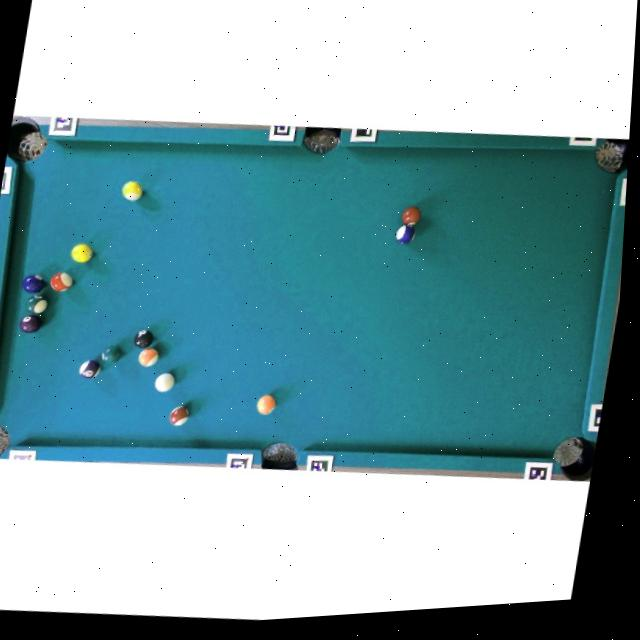cue ball: (153, 371, 175, 393)
other: (68, 241, 95, 265), (17, 311, 44, 335), (20, 272, 48, 294), (254, 392, 278, 416), (48, 270, 73, 293), (120, 179, 144, 202), (77, 357, 101, 380), (99, 342, 123, 365), (399, 204, 422, 227), (167, 404, 190, 427), (24, 293, 48, 315), (394, 222, 416, 245), (136, 346, 159, 368), (132, 328, 154, 349)
